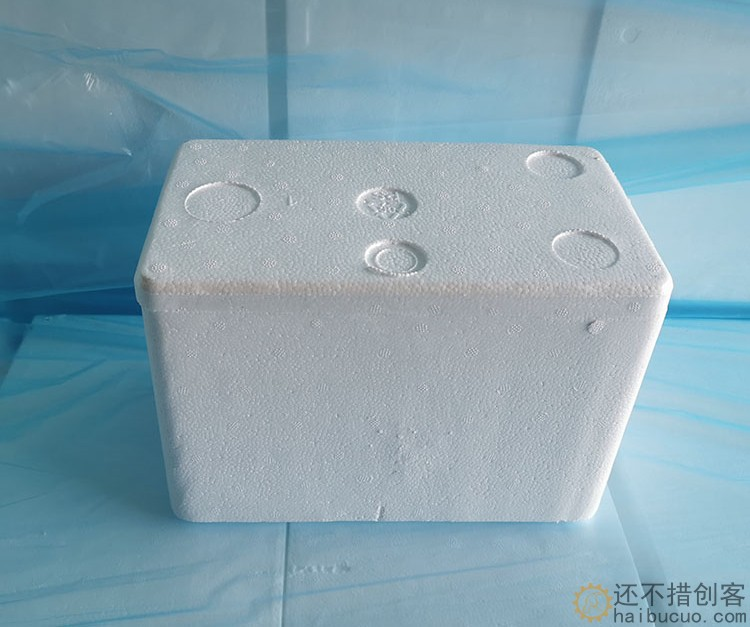泡沫箱: (135, 141, 672, 521)
